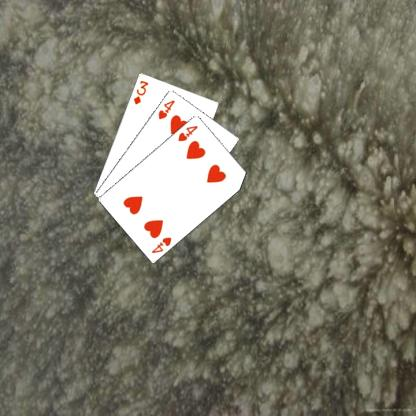3D: (131, 77, 150, 106)
4H: (156, 97, 177, 120), (149, 234, 173, 254), (176, 123, 199, 142)
